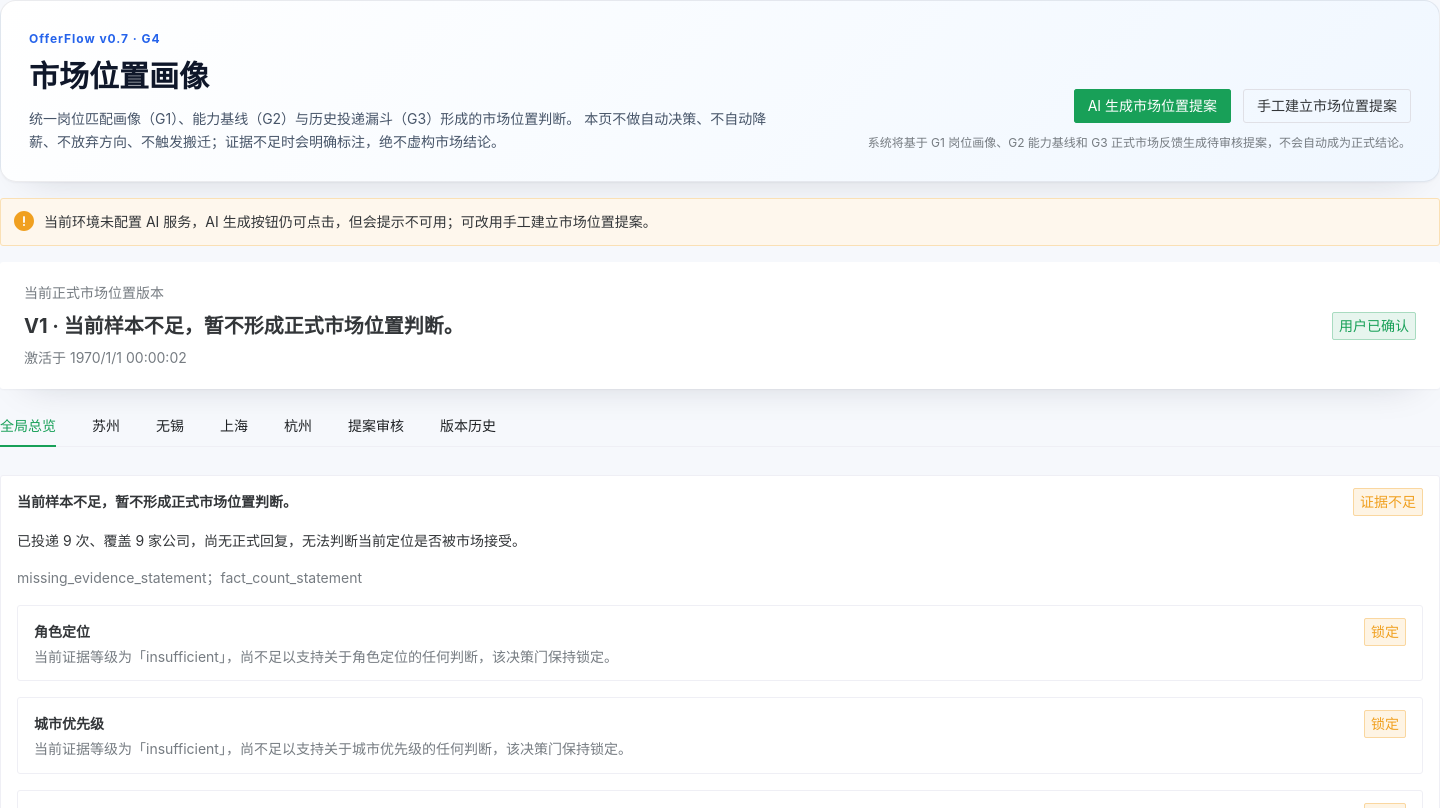
Test: MarketPositionPage · 路由与页面 › 版本历史 Tab：展示当前正式版本
The image size is (1440, 808).
Click the element with class "n-tabs-tab" showing "版本历史". click: (468, 426)
box: [440, 417, 496, 434]
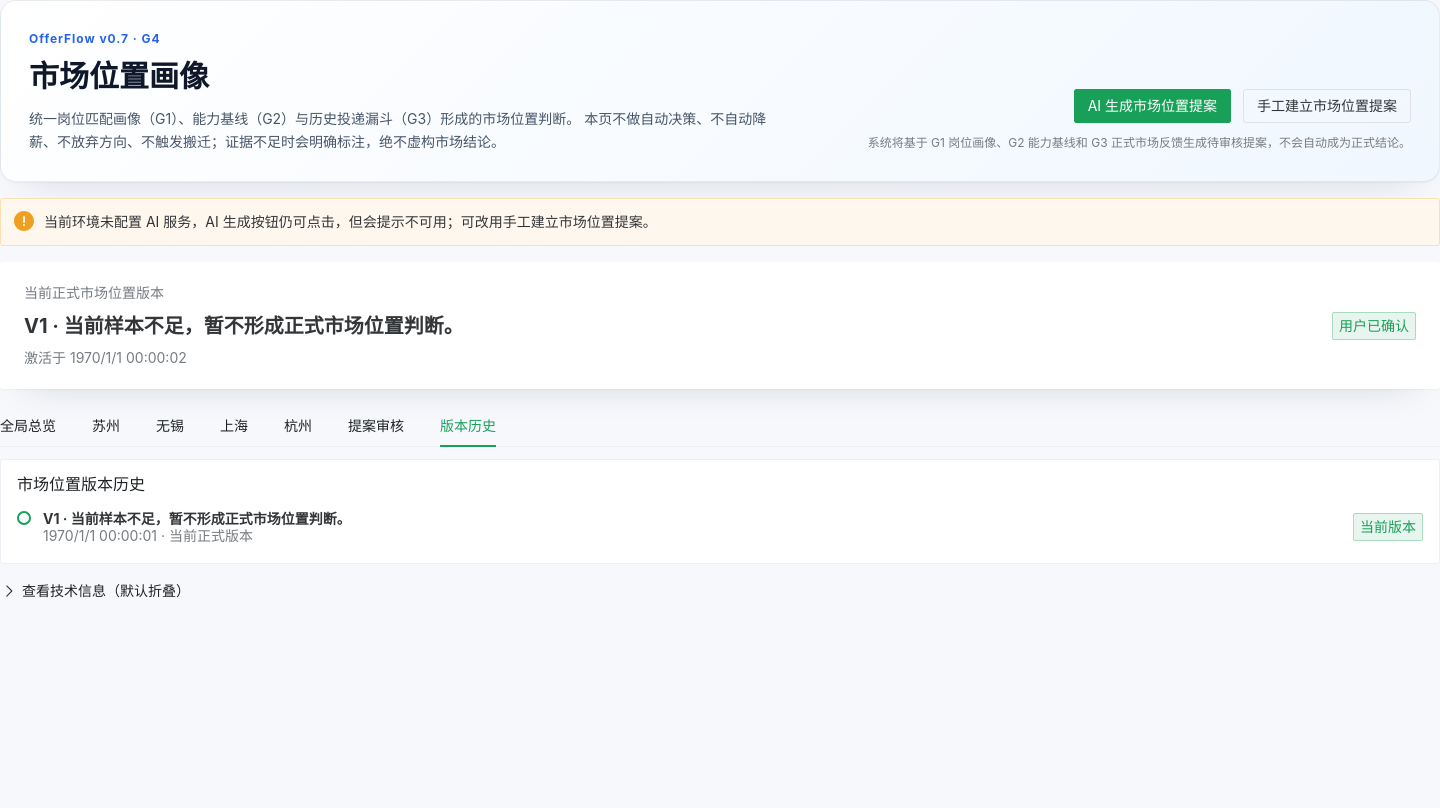
Now the element with test id "mp-version-v1" is shown, box [17, 510, 1423, 551]
